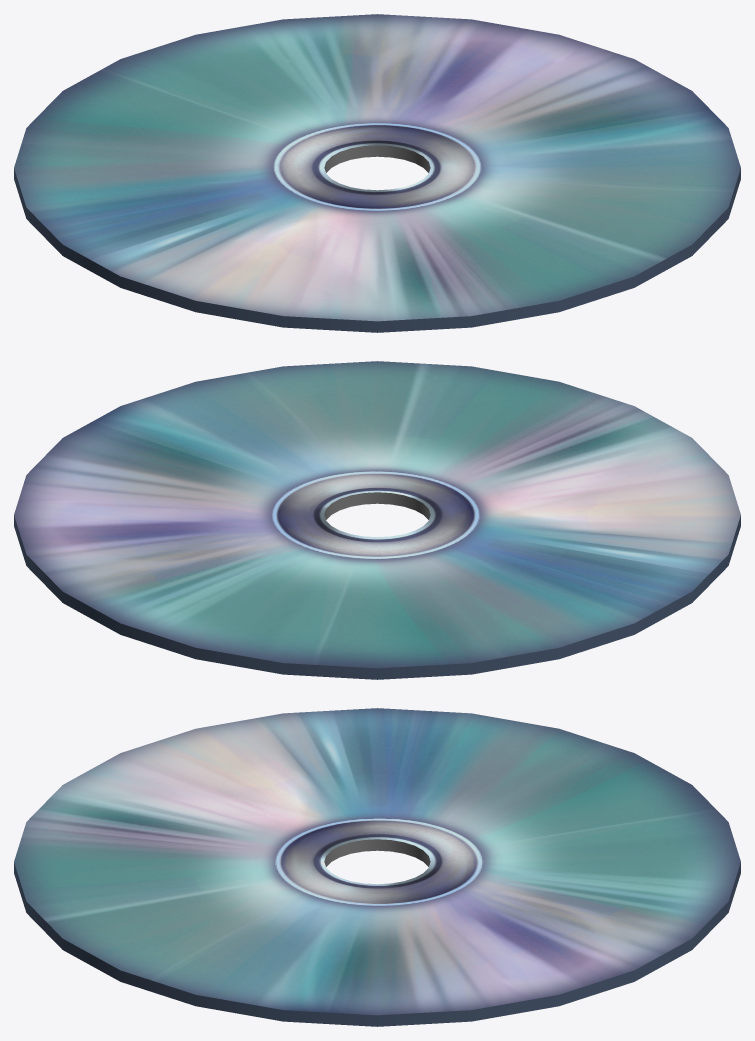
File: lvl2_cd.FBX
3 views of the same model, one above another, from view 1: azimuth 30°, elevation 25°; view 2: azimuth 150°, elevation 25°; view 3: azimuth 270°, elevation 25° (orthographic).
Visible parts, largest first — view 1: Cylinder002; view 2: Cylinder002; view 3: Cylinder002.
Part boxes in pixels (x1,y1,x2,y2): Cylinder002: (14, 14, 740, 332); Cylinder002: (14, 361, 740, 679); Cylinder002: (14, 708, 740, 1026).
Size of the model in its own units: 862 by 15 by 862.
Materials: 1 (1 with a texture image).
